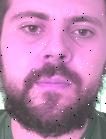without_mask: (2, 1, 106, 139)
